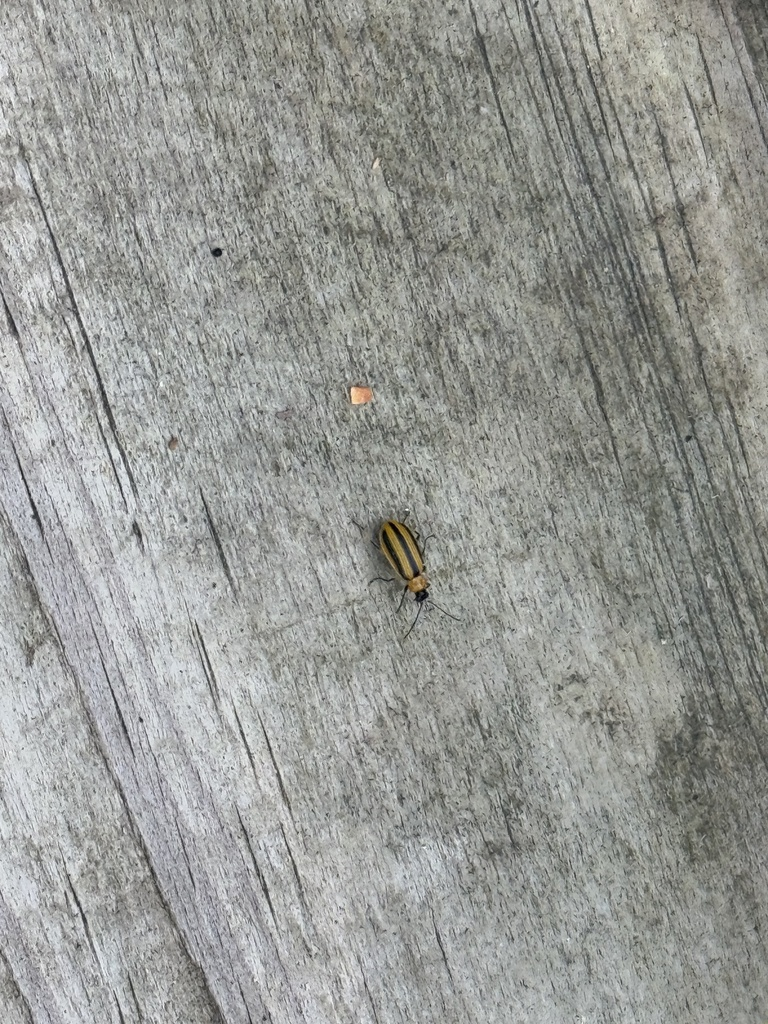potato_beetle: (324, 473, 498, 675)
